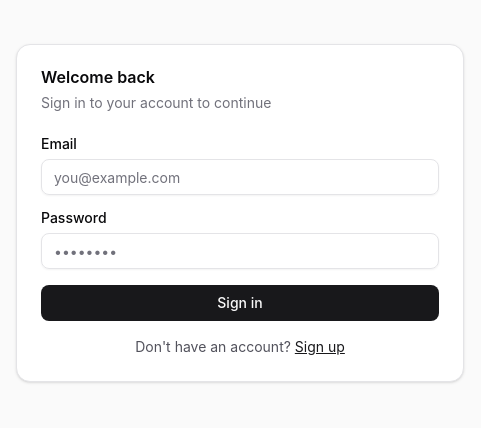
it: Authentication Flow › should show validation errors for empty login fields
# Try to submit with empty fields
Click the submit button at (240, 303), box x1=41 y1=285 x2=439 y2=321
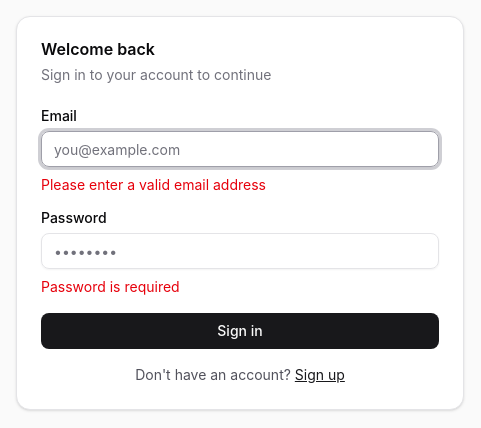
expect the text "Please enter a valid email address" is shown: met, box x1=41 y1=176 x2=266 y2=193
expect the text "Password is required" is shown: met, box x1=41 y1=278 x2=180 y2=295
